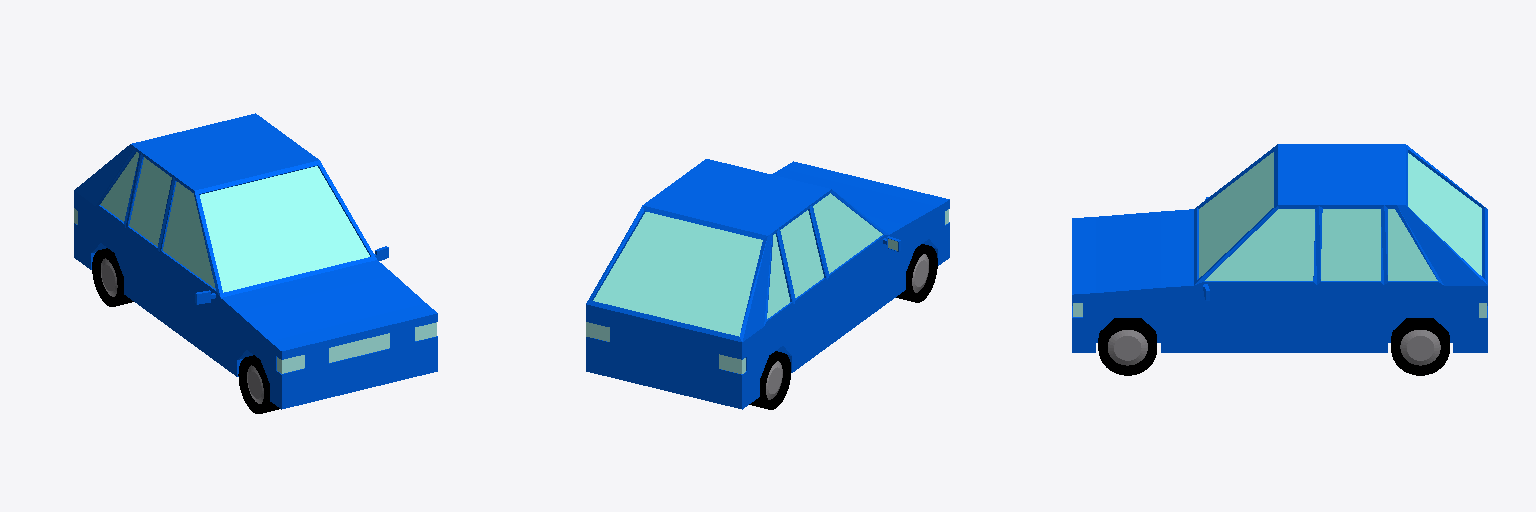
3 renders of one model, left to right at view 1: azimuth 30°, elevation 25°; view 2: azimuth 150°, elevation 25°; view 3: azimuth 270°, elevation 25°, orthographic.
Parts seen in each view (by area): view 1: Car_Car1_Cube.001; view 2: Car_Car1_Cube.001; view 3: Car_Car1_Cube.001.
Boxes of the visible parts, box(x1,y1,x2,y2) form: Car_Car1_Cube.001: box(74, 113, 437, 413); Car_Car1_Cube.001: box(586, 159, 949, 409); Car_Car1_Cube.001: box(1072, 144, 1487, 375).
Size of the model in its own units: 2.46 by 1.99 by 4.6.
Materials: 1 (1 with a texture image).